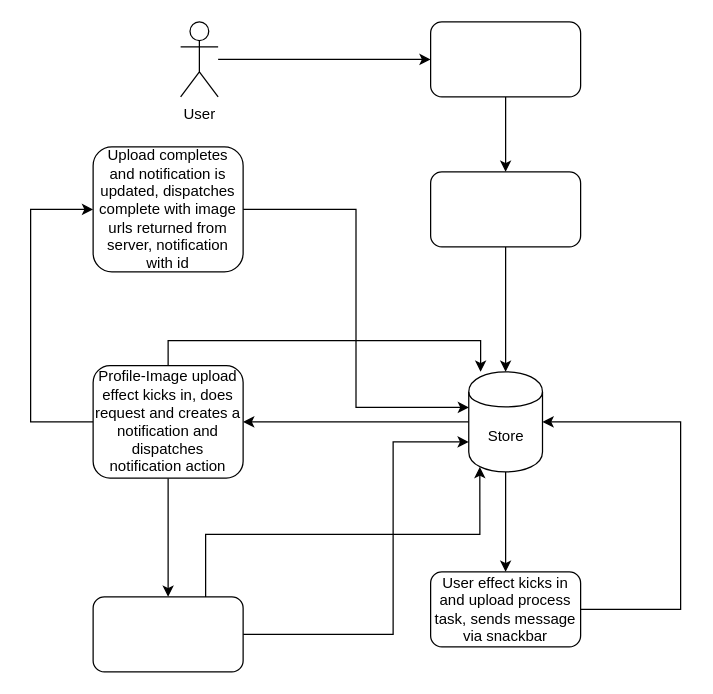
This 713x694 diagram has some shape labels left out. The shapes that lost their labels are listed below. From the top down, each one's centre as x and y in pixels, then its label:
At (x=505, y=59): "Upload 1..n image(s)".
At (x=505, y=209): "Dispatch upload-request action".
At (x=167, y=634): "Notification is being updated with progress".
